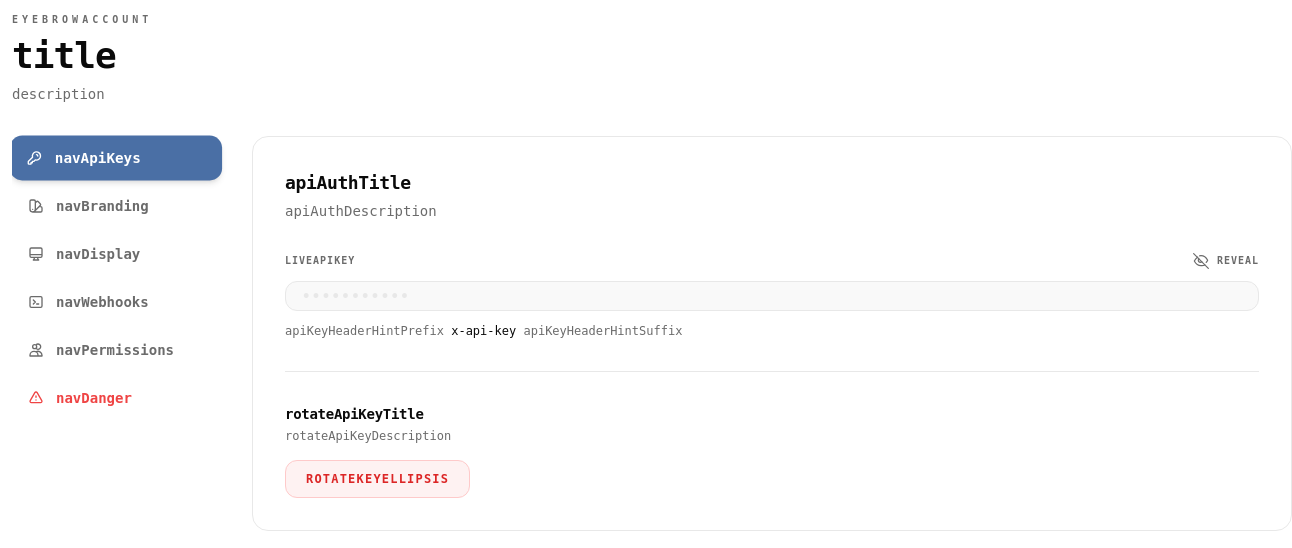
Scenario: SettingsWidget › Tab navigation › switches to Display panel on click
The width and height of the screenshot is (1292, 548).
Click the tab "navDisplay" at (116,254), box [12,232,220,276]
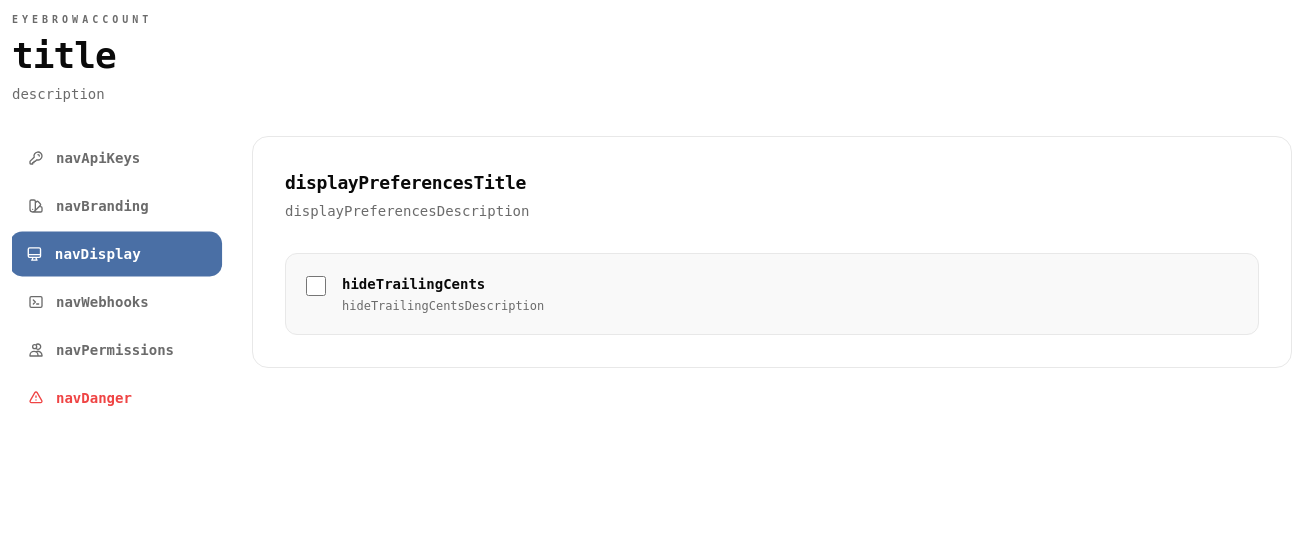
Result: the heading "displayPreferencesTitle" is shown at [285,172,526,193]
